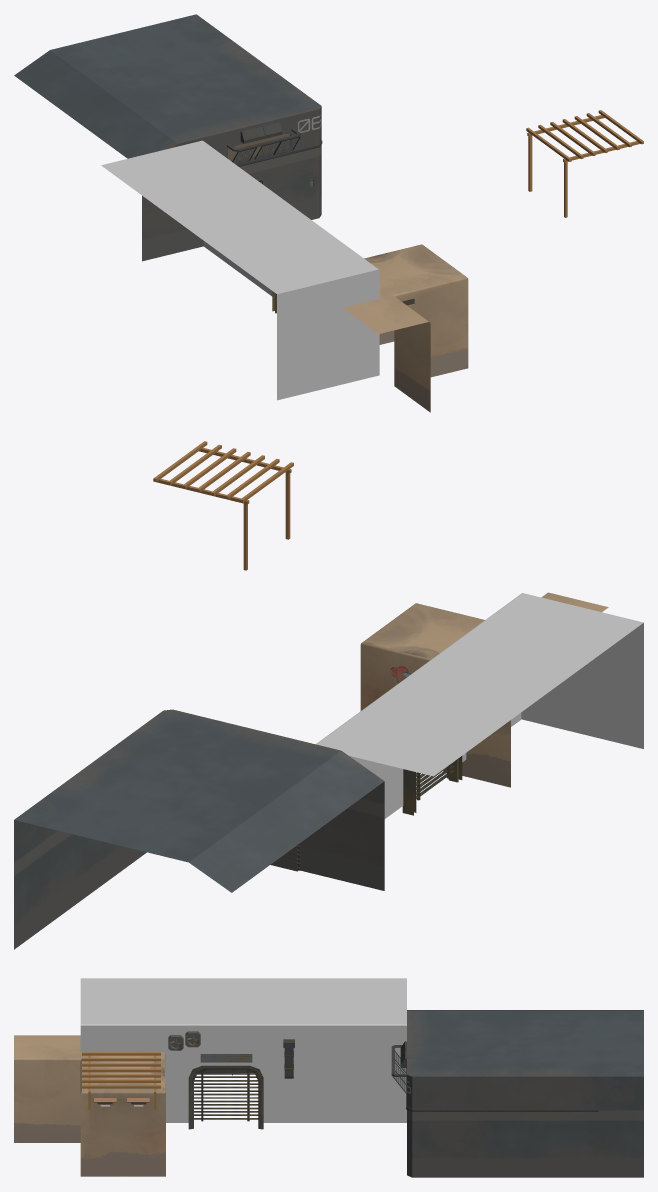
Rendered from bSite_1.fbx.
3 views of the same model, one above another, from view 1: azimuth 30°, elevation 25°; view 2: azimuth 150°, elevation 25°; view 3: azimuth 270°, elevation 25° (orthographic). The views are drawn at different scales.
Parts seen in each view (by area): view 1: Cube.537, Cube.587, Cube.278, Cube.403, Cube.539; view 2: Cube.537, Cube.587, Cube.278, Cube.403, Cube.382; view 3: Cube.537, Cube.587, Cube.278, Cube.403, Cube.383, Cube.382, Cube.538, Plane.045, Cube.397.
Boxes of the visible parts, x1=… form: Cube.537: x1=14, y1=14, x2=321, y2=261; Cube.587: x1=101, y1=140, x2=379, y2=400; Cube.278: x1=343, y1=244, x2=468, y2=412; Cube.403: x1=526, y1=110, x2=643, y2=217; Cube.539: x1=240, y1=122, x2=282, y2=143; Cube.537: x1=14, y1=709, x2=384, y2=949; Cube.587: x1=316, y1=593, x2=643, y2=818; Cube.278: x1=360, y1=592, x2=608, y2=787; Cube.403: x1=153, y1=441, x2=293, y2=570; Cube.382: x1=402, y1=756, x2=462, y2=815; Cube.537: x1=407, y1=1010, x2=643, y2=1177; Cube.587: x1=80, y1=978, x2=406, y2=1122; Cube.278: x1=14, y1=1035, x2=165, y2=1176; Cube.403: x1=82, y1=1052, x2=160, y2=1109; Cube.383: x1=194, y1=1070, x2=258, y2=1119; Cube.382: x1=188, y1=1065, x2=263, y2=1129; Cube.538: x1=406, y1=1068, x2=598, y2=1111; Plane.045: x1=200, y1=1054, x2=252, y2=1062; Cube.397: x1=283, y1=1039, x2=294, y2=1078.
Size of the model in its own units: 2596 by 1231 by 4137.
